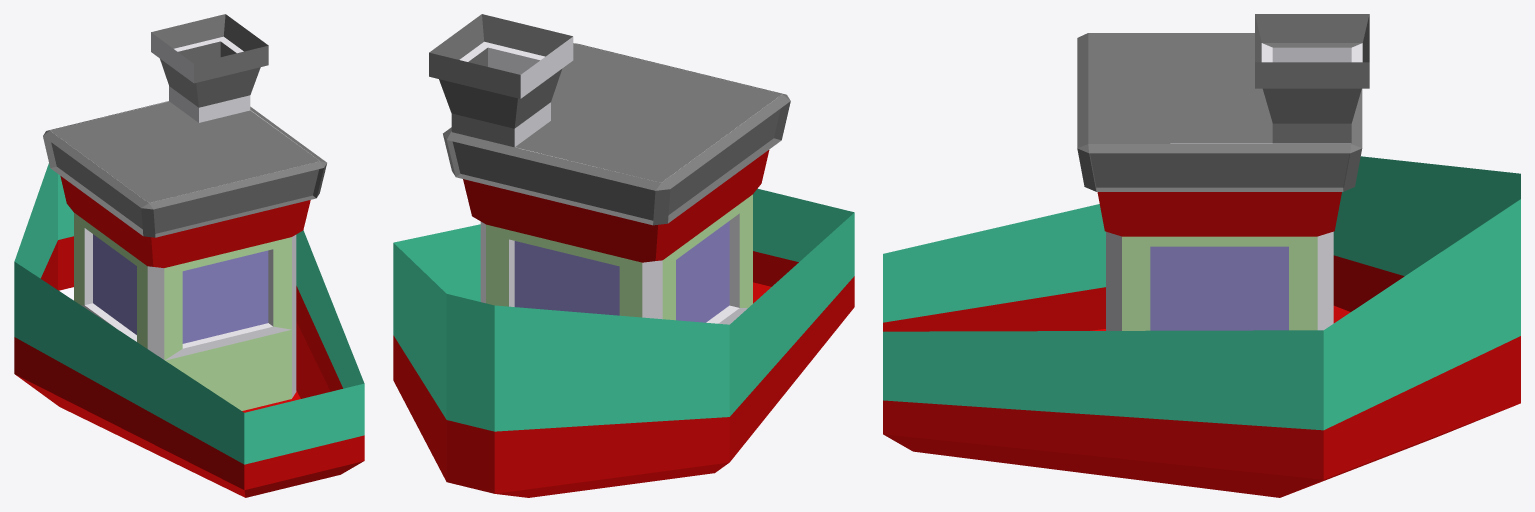
File: boat.glb
3 views of the same model, side by side, from view 1: azimuth 30°, elevation 25°; view 2: azimuth 150°, elevation 25°; view 3: azimuth 270°, elevation 25° (orthographic). The views are drawn at different scales.
Parts seen in each view (by area): view 1: body; view 2: body; view 3: body.
Part boxes in pixels (box(x1,y1,x2,y2)): body: box(14, 14, 364, 497); body: box(393, 14, 854, 497); body: box(883, 14, 1520, 497).
Size of the model in its own units: 2 by 2.23 by 3.03.
